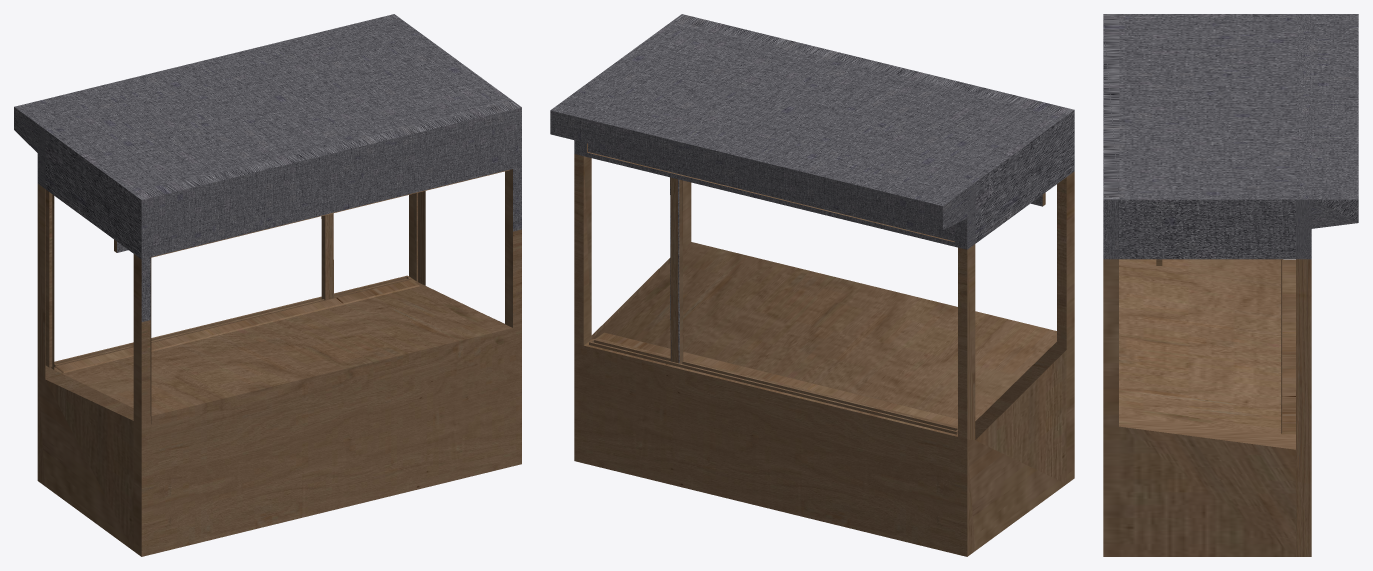
Rendered from crowdStands.glb.
3 views of the same model, side by side, from view 1: azimuth 30°, elevation 25°; view 2: azimuth 150°, elevation 25°; view 3: azimuth 270°, elevation 25° (orthographic). The views are drawn at different scales.
Visible parts, largest first — view 1: Cube.011; view 2: Cube.011; view 3: Cube.011.
Part boxes in pixels (left/top/right/bottom): Cube.011: left=14, top=14, right=521, bottom=556; Cube.011: left=550, top=14, right=1074, bottom=556; Cube.011: left=1103, top=14, right=1358, bottom=556.
Bounding box in the file's own units: 2.71 × 2.43 × 1.58.
1 material, 1 textured.
